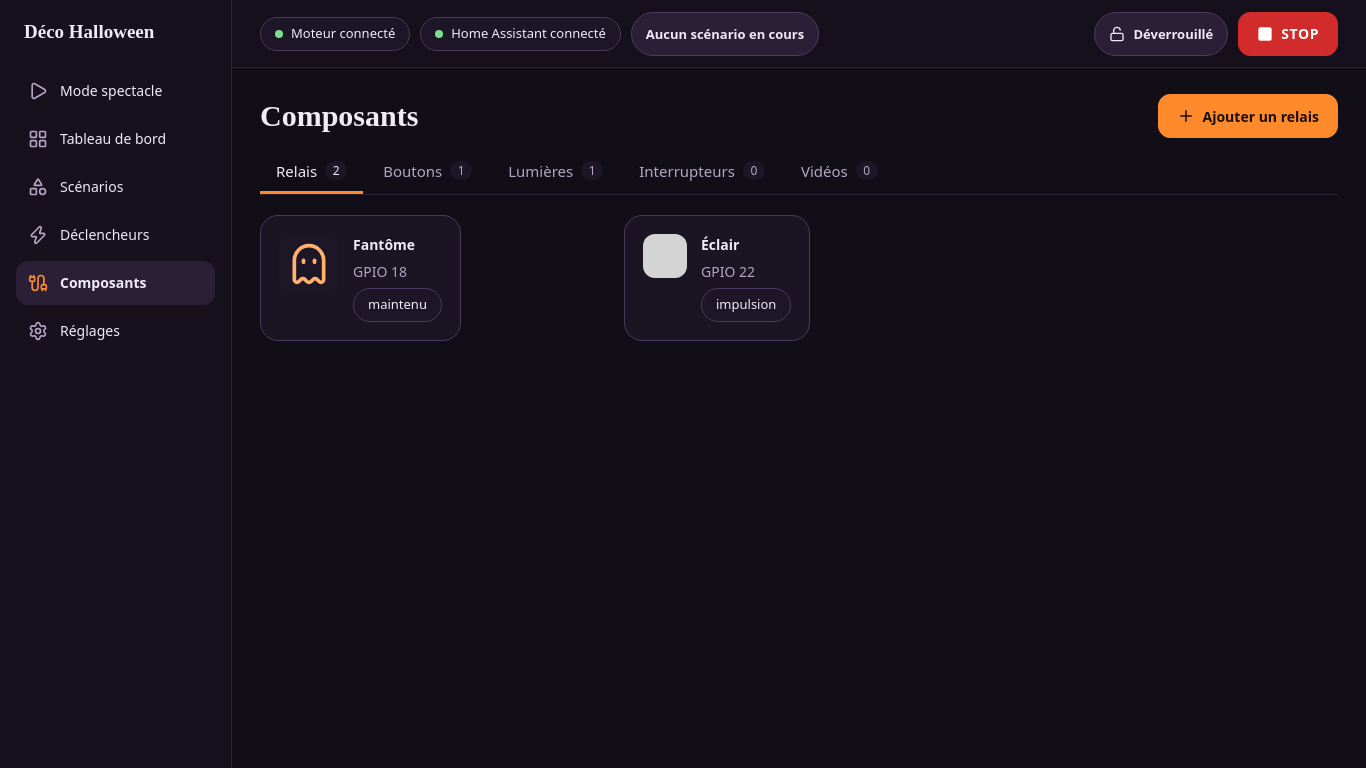
it: les onglets montrent chaque type avec son effectif
Expected: the text "Fantôme" is shown, [353, 234, 415, 255]
Expected: the tab "Relais 2" is shown, [260, 150, 363, 194]
What coordinates should you click on to do the following:
click the tab "Lumières 1"
I would click on:
 (556, 172)
Its box is [492, 150, 619, 194].
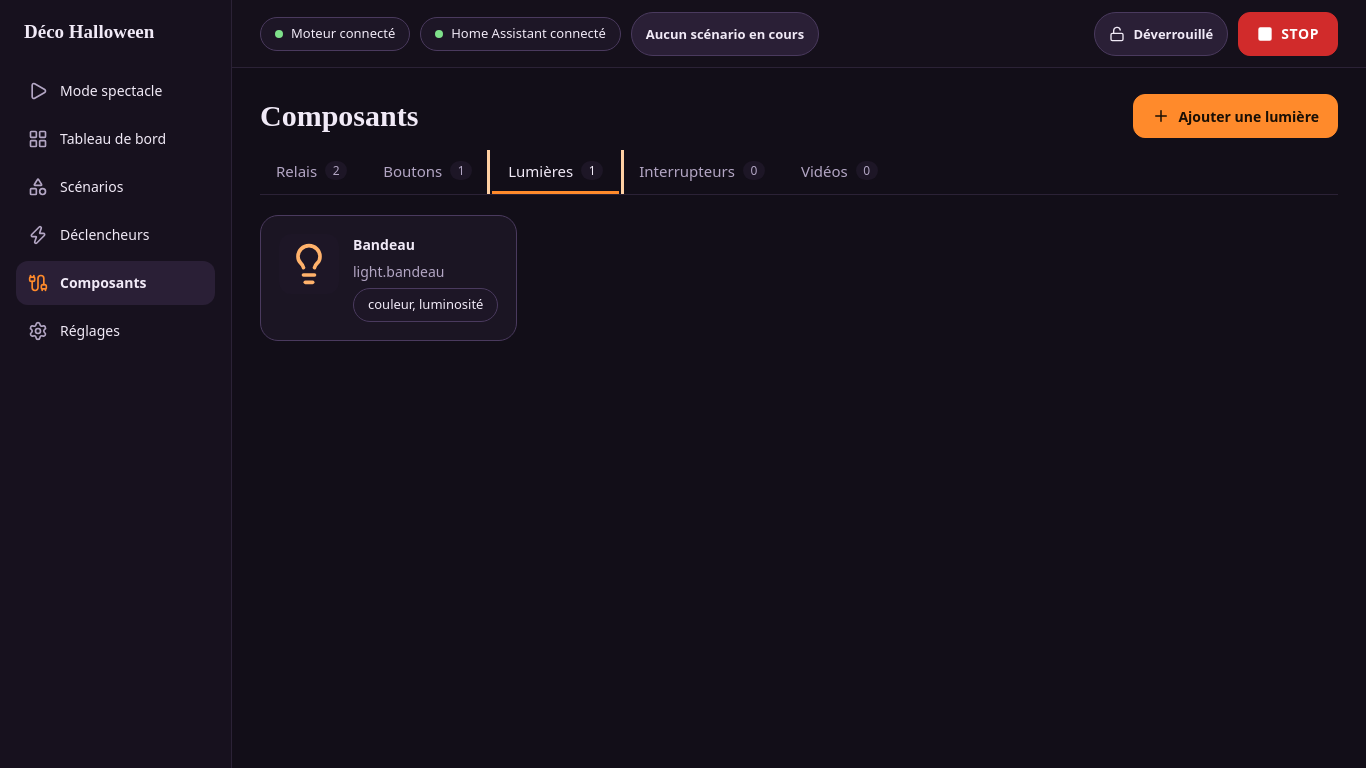
Now the text "light.bandeau" is shown, box [353, 261, 444, 282]
Now the text "couleur, luminosité" is shown, box [353, 288, 498, 322]
Now the button "Ajouter une lumière" is shown, box [1133, 94, 1338, 138]
What coordinates should you click on to do the following:
click the tab "Interrupteurs 0"
I would click on:
 (702, 172)
Its box is [623, 150, 781, 194].
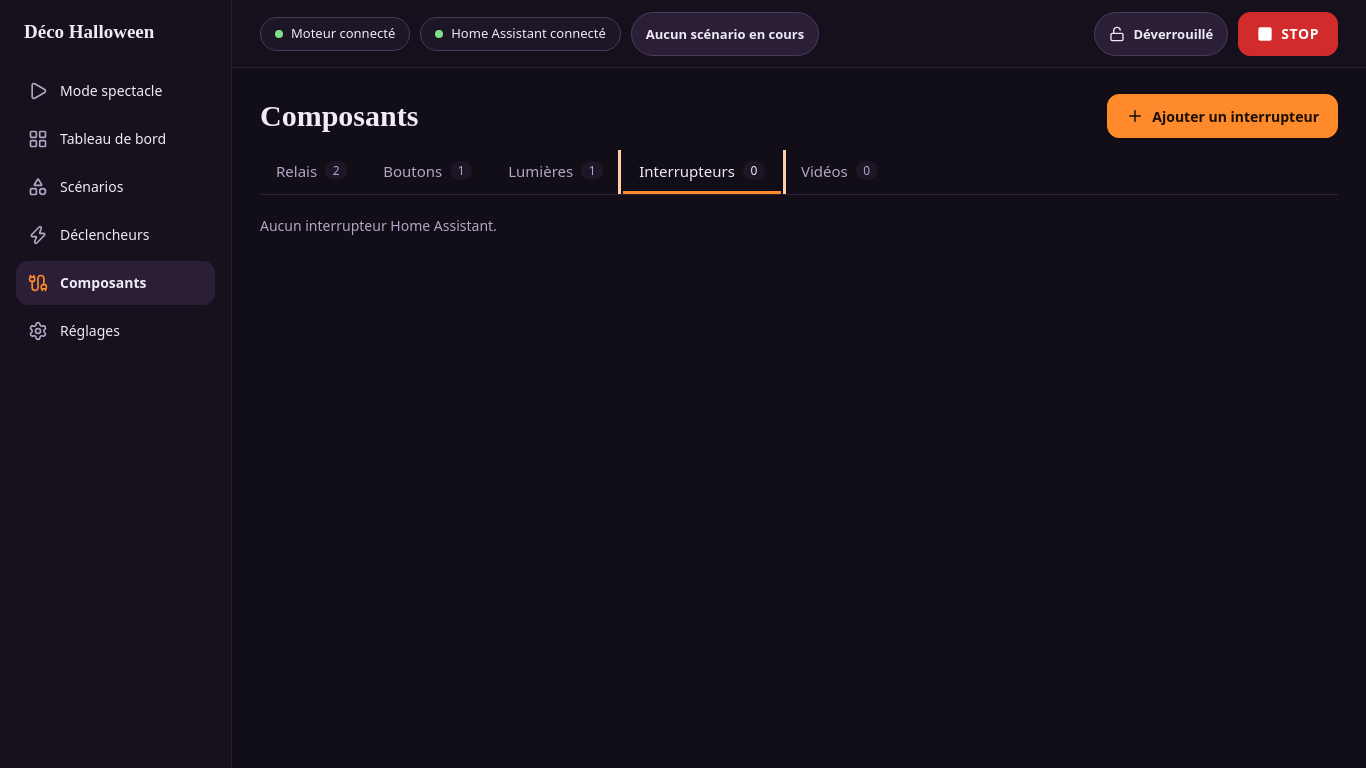
Now the text "Aucun interrupteur Home Assistant." is shown, box [260, 216, 497, 235]
